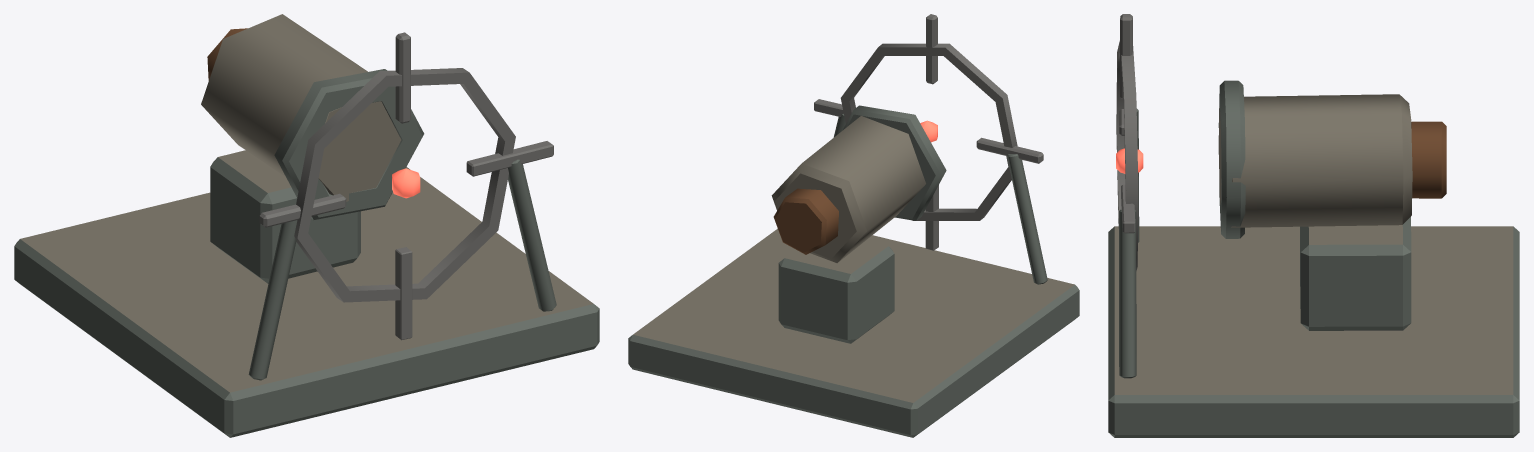
Rendered from R4X_WeakPointScanner_LOD1.fbx.
3 views of the same model, side by side, from view 1: azimuth 30°, elevation 25°; view 2: azimuth 150°, elevation 25°; view 3: azimuth 270°, elevation 25° (orthographic). The views are drawn at different scales.
Parts seen in each view (by area): view 1: R4X_WeakPointScanner_LOD1; view 2: R4X_WeakPointScanner_LOD1; view 3: R4X_WeakPointScanner_LOD1.
Boxes of the visible parts, x1=… form: R4X_WeakPointScanner_LOD1: x1=14, y1=14, x2=599, y2=437; R4X_WeakPointScanner_LOD1: x1=628, y1=14, x2=1079, y2=437; R4X_WeakPointScanner_LOD1: x1=1108, y1=14, x2=1519, y2=437.
Bounding box in the file's own units: 0.52 × 0.47 × 0.52.
